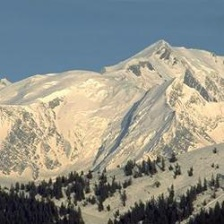neutral: (3, 2, 224, 223)
